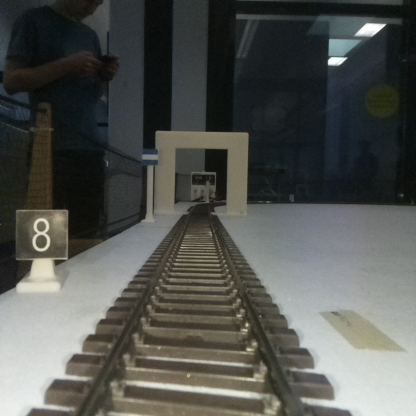black-stop-8: (15, 210, 68, 292)
start: (142, 148, 158, 222)
